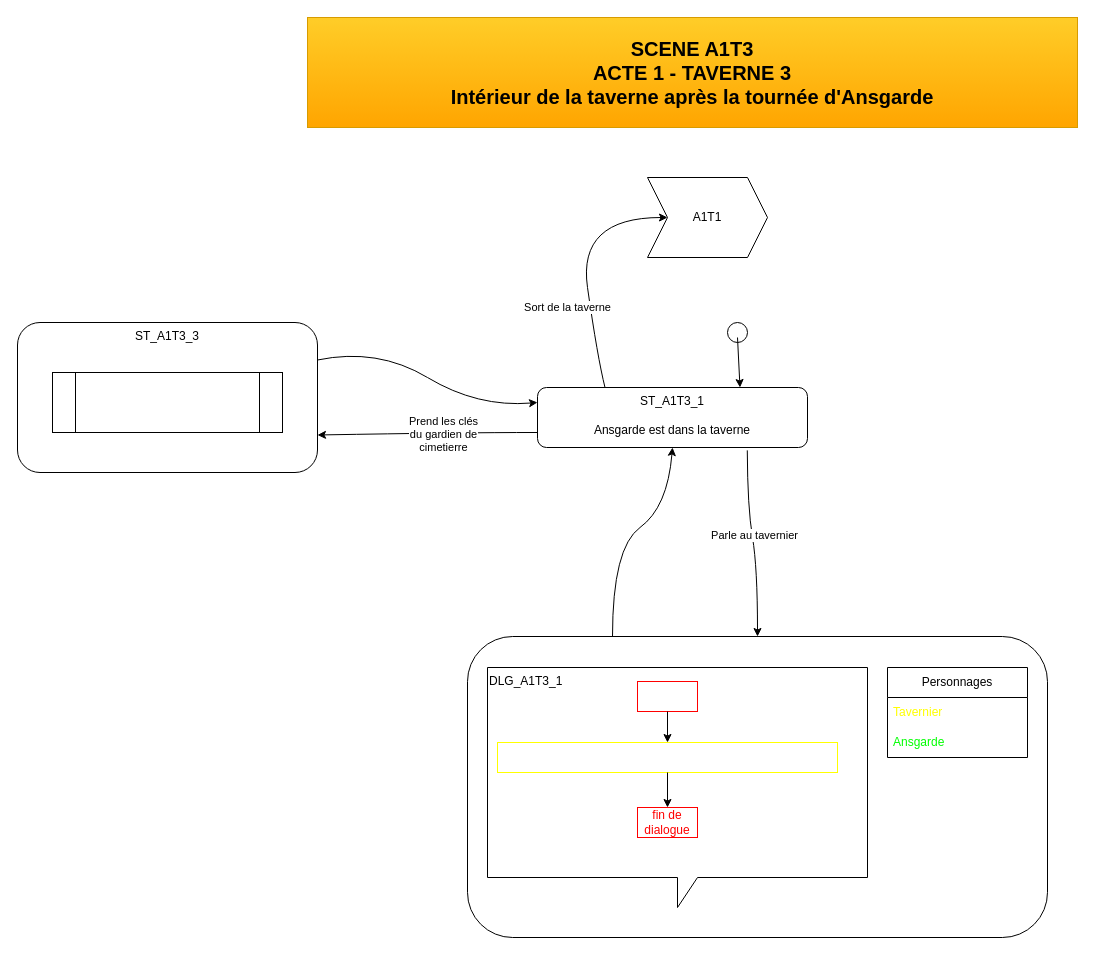
This 1095x955 diagram has some shape labels left out. Each missing label, with the box of its shape:
Add to stuff => Clés du cimetierre: (52, 372, 282, 432)
début de dialogue: (636, 680, 698, 712)
Ils sont dans un sale état. J'espère qu'ils vont rester propres.: (496, 742, 838, 772)
ST_A1T3_2: (466, 636, 1048, 938)
